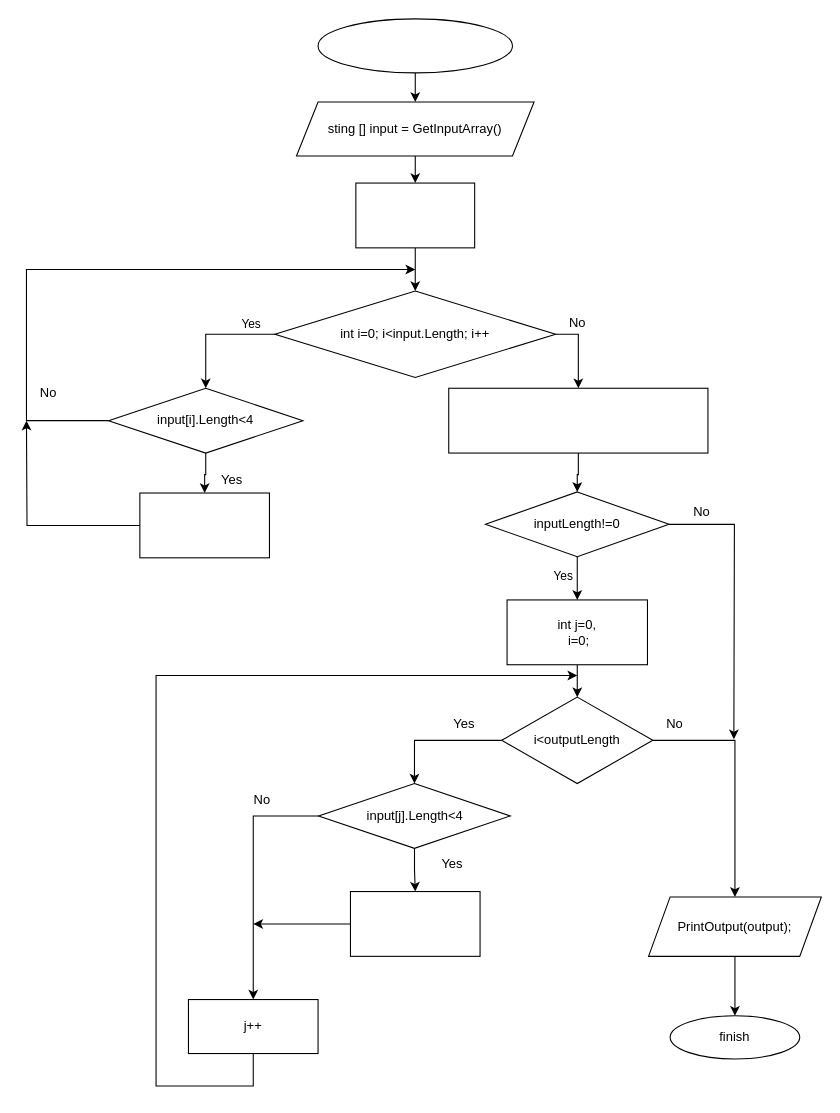
This 840x1113 diagram has some shape labels left out. The centre of each missing label's shape, as x and y in pixels:
int outputLength=0;: [415,215]
output[i]=input[j] i++: [414,923]
outputLength++;: [204,525]
Start TaskMethod: [414,45]
string[] output = new string [outputLength]: [578,420]
